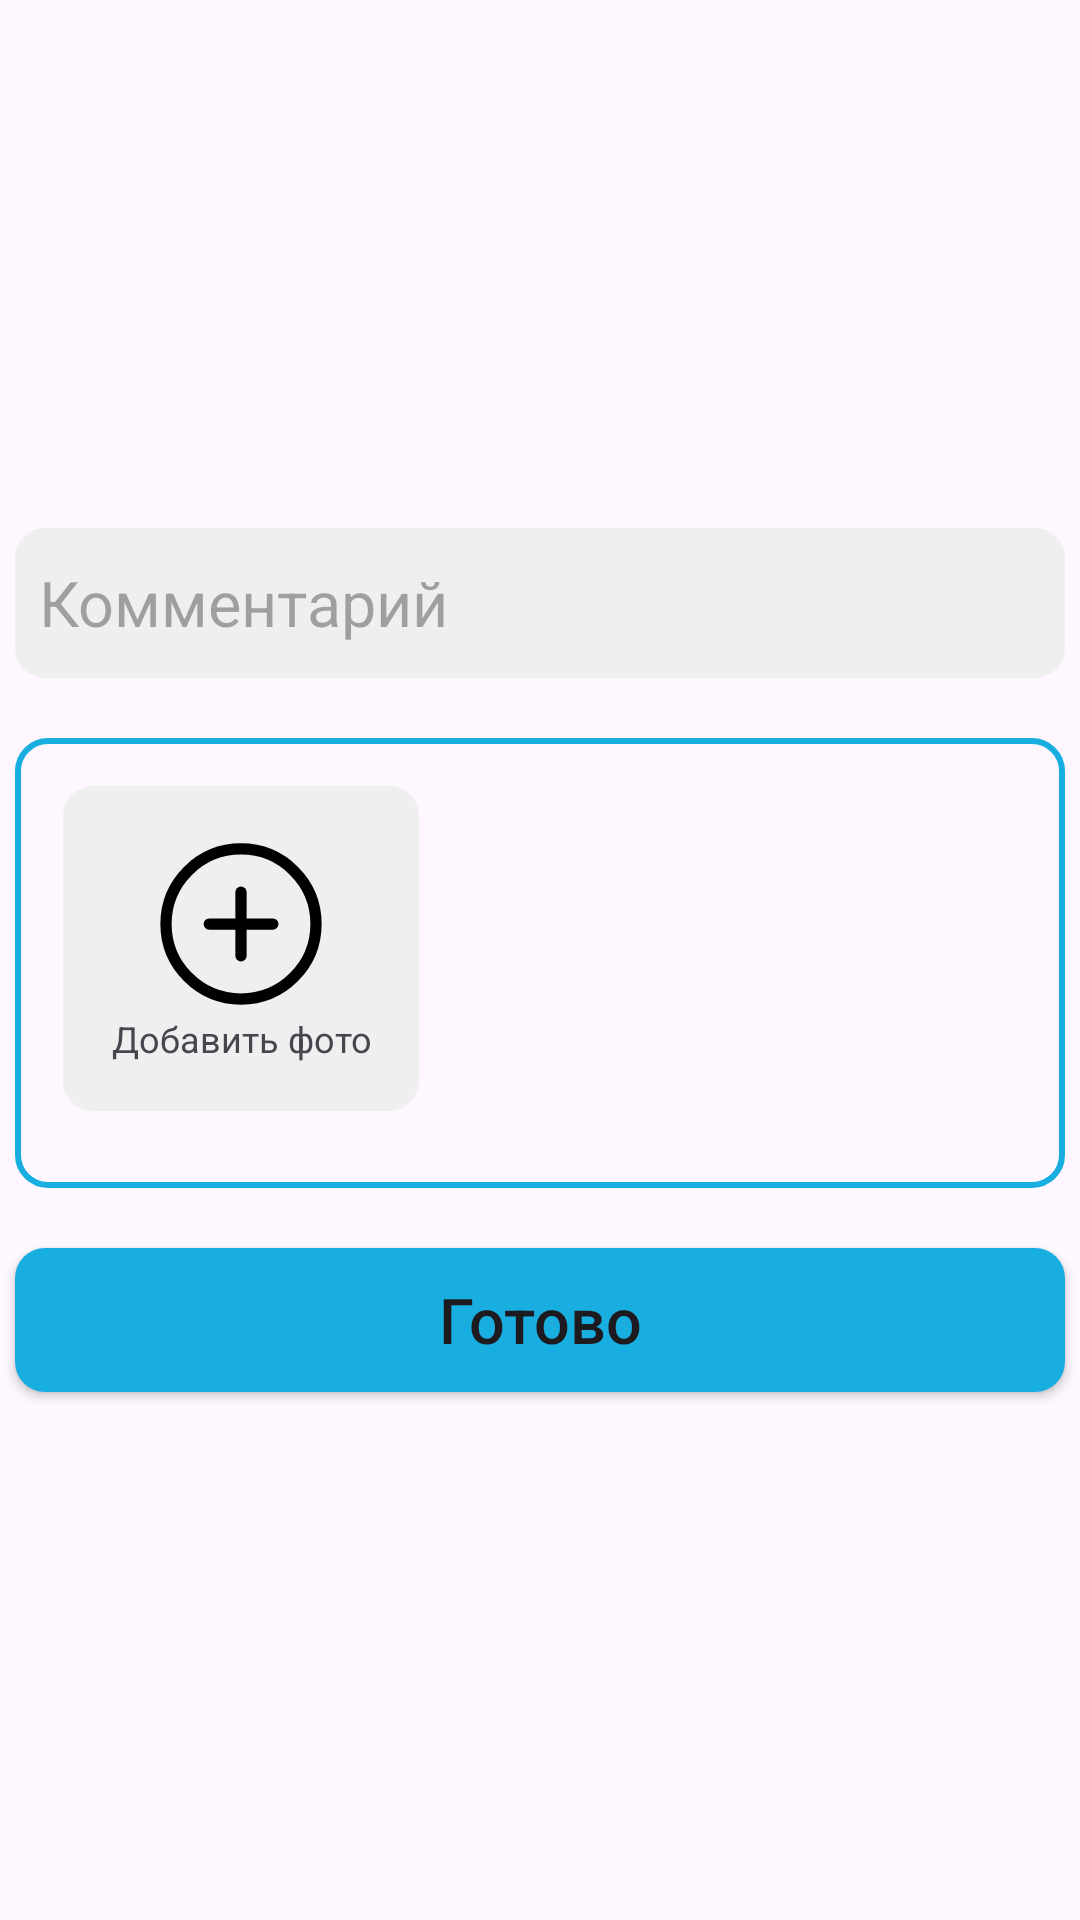

Icons on this 1080×1920 Android screen, each with the point to tap as (x,y):
add circle: (241,924)
